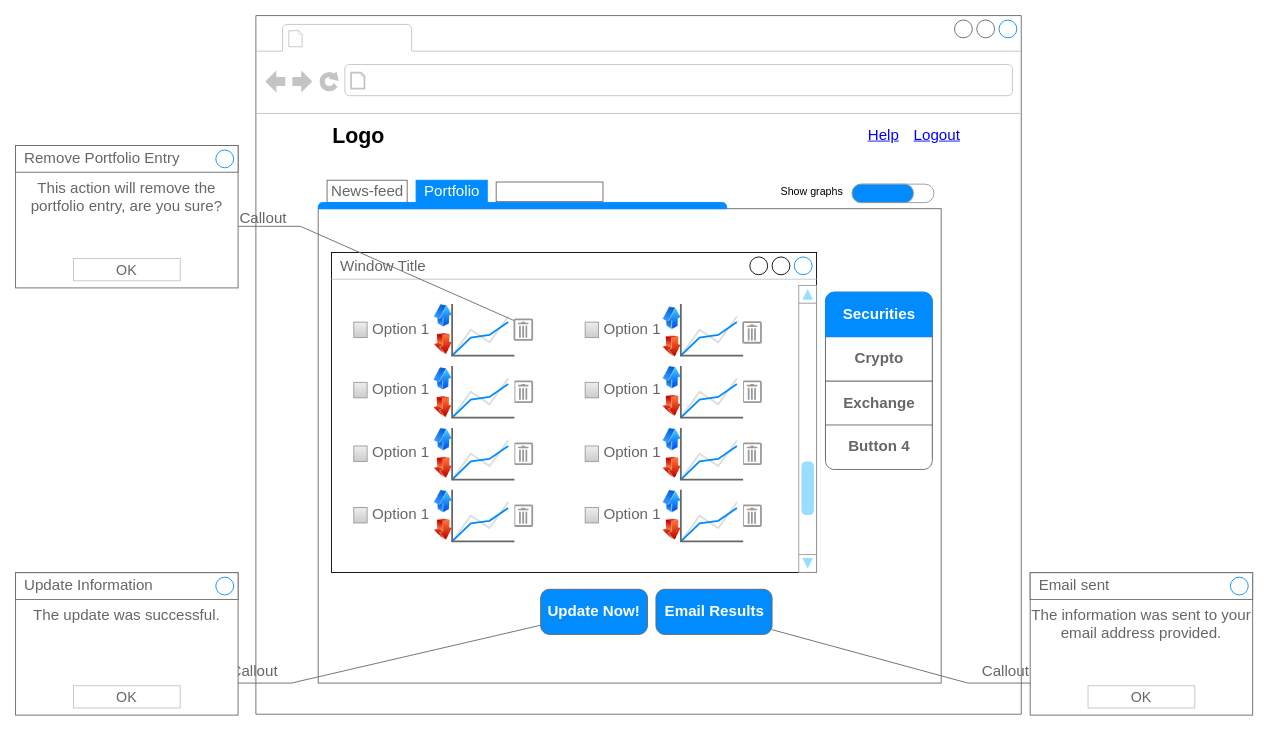
Some shapes in this 1268 by 731 pixel diagram are drawn without their labels. The centre of each missing label's shape, as x and y in pixels:
"https://www.draw.io" belongs at (x=482, y=80).
"ON" belongs at (x=892, y=193).
"Page 1" belongs at (x=357, y=37).
"Personal Info" belongs at (x=549, y=191).
